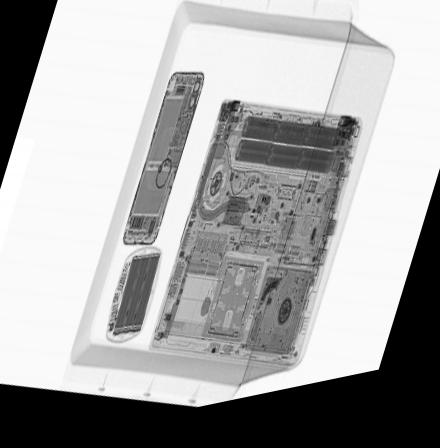Powerbank: (100, 248, 166, 349)
